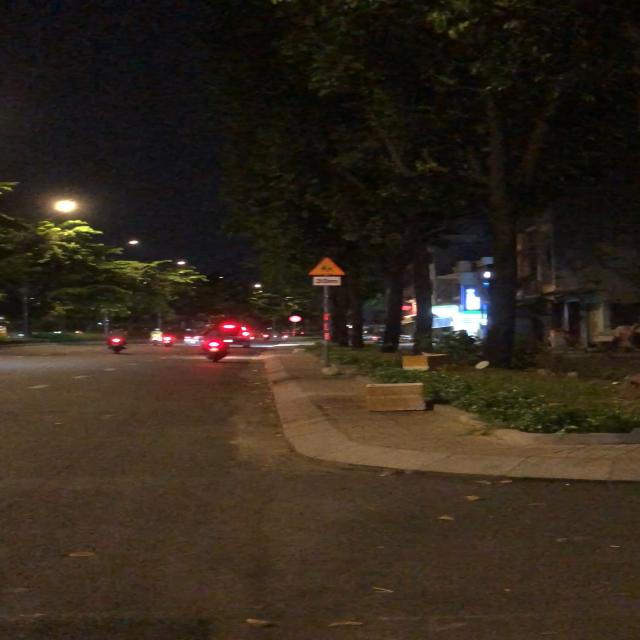Bien bao tre em: (303, 256, 345, 276)
